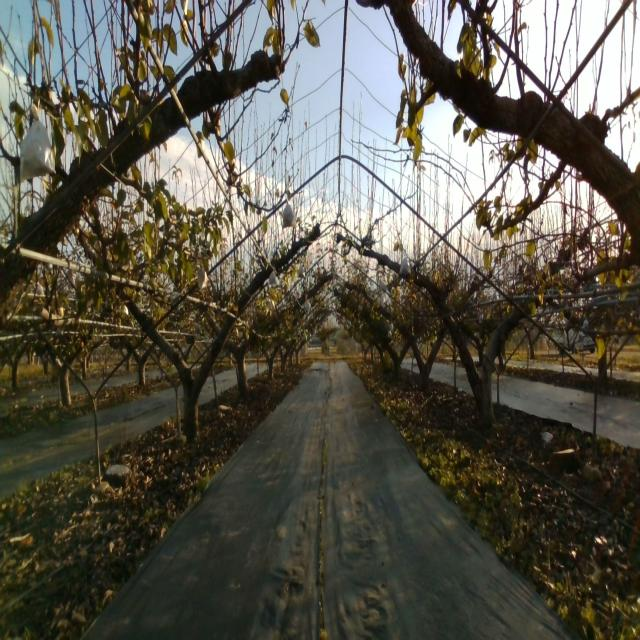pearbags: (19, 102, 57, 183), (282, 199, 297, 230), (398, 254, 412, 276), (198, 267, 209, 292)
